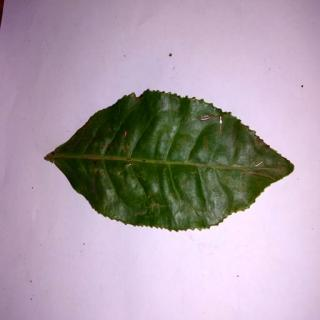Bird Eye Spot: (44, 89, 296, 234)
